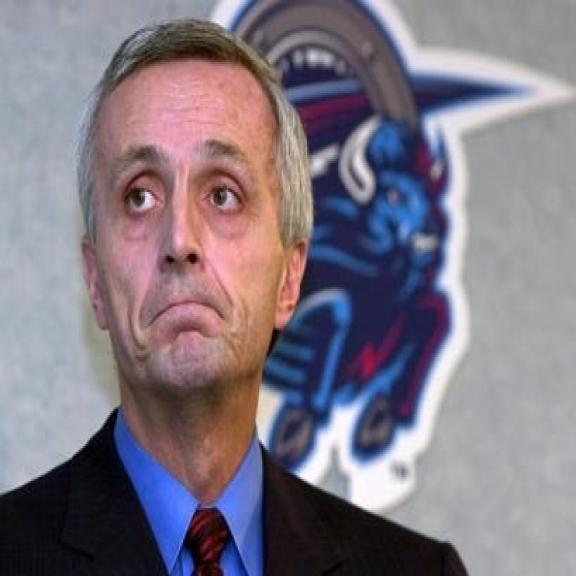face: (79, 20, 315, 400)
